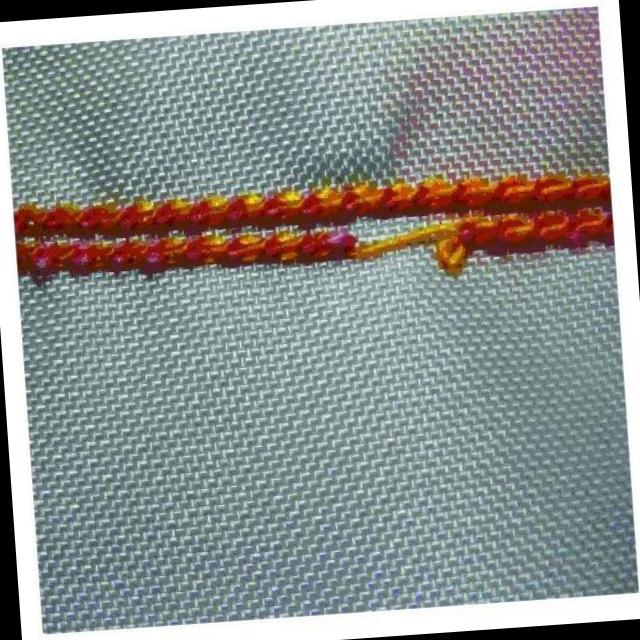gray stitch: (15, 152, 616, 310)
